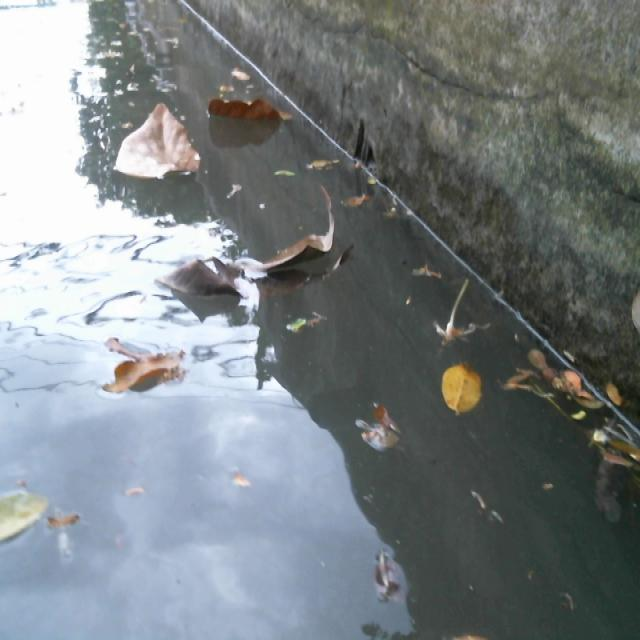Big-leaf: (153, 197, 347, 309), (105, 93, 211, 188), (106, 334, 184, 402), (205, 93, 298, 129)
Small-leaf: (347, 400, 418, 474), (0, 477, 60, 542), (436, 356, 488, 418), (366, 551, 407, 621), (557, 366, 598, 412), (606, 369, 636, 425), (309, 144, 352, 179), (338, 187, 379, 213), (530, 347, 564, 377), (227, 53, 258, 85), (413, 259, 447, 288), (276, 163, 305, 179)
